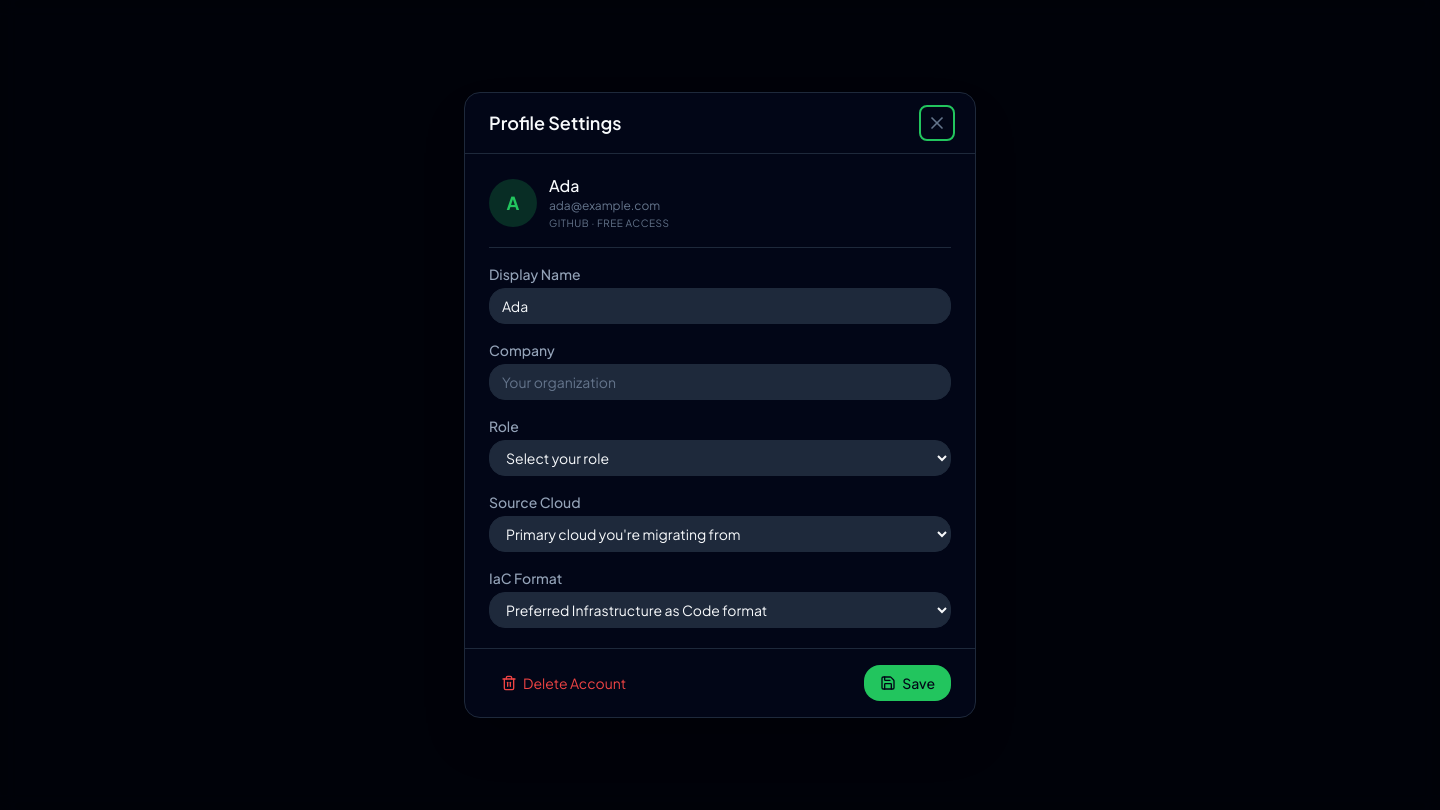
Test: ProfilePage › shows the typed API error detail when saving fails
This screenshot has width=1440, height=810.
Click the button "Save" at coordinates (908, 683), box x1=864 y1=665 x2=951 y2=701
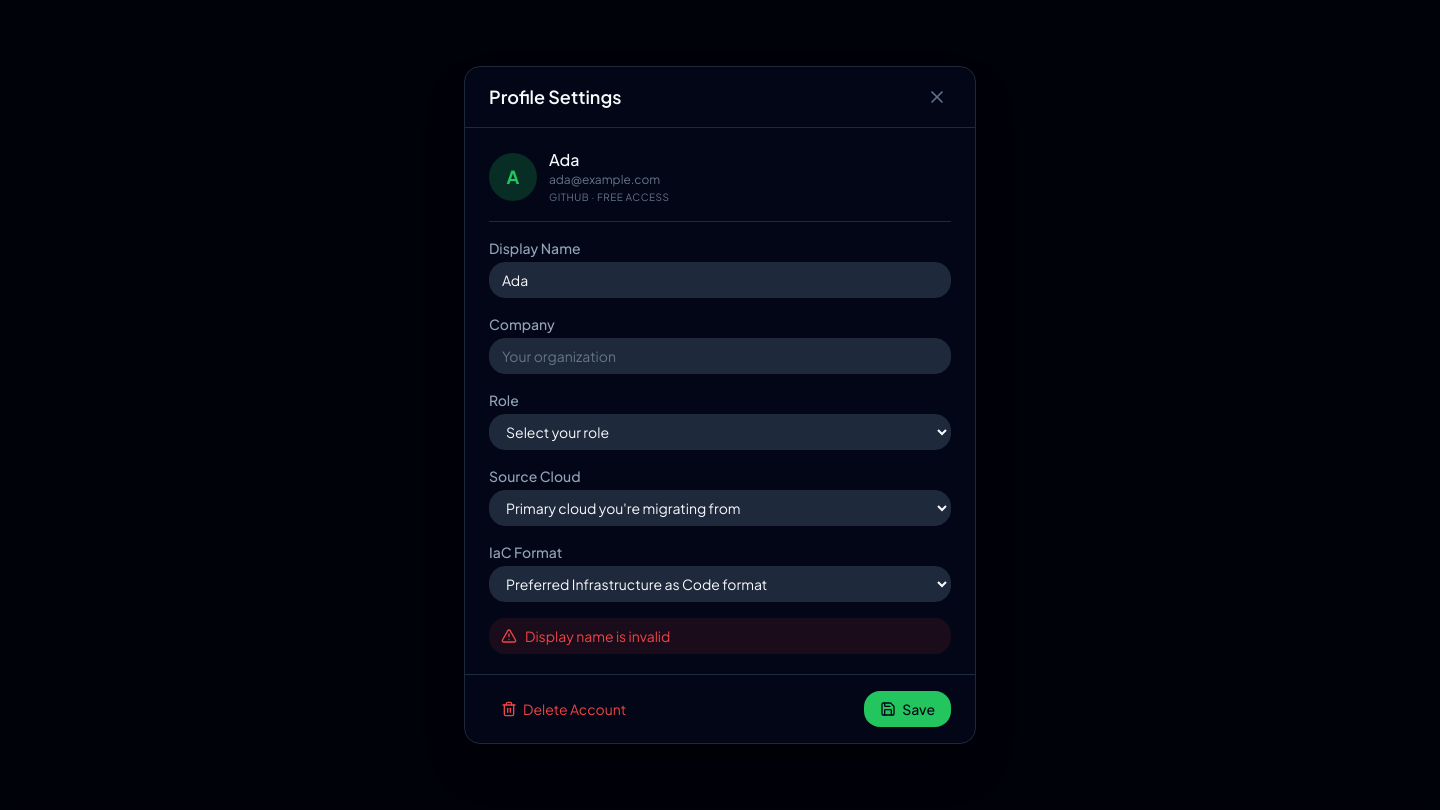
Expected: the message reads "Display name is invalid", x1=525 y1=627 x2=670 y2=645
